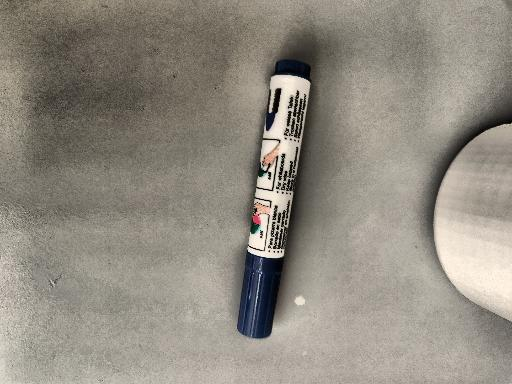marcador azul: (237, 60, 310, 338)
